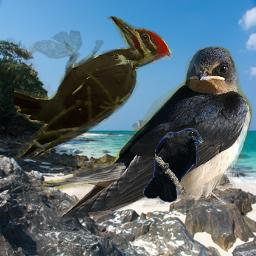Crow: (143, 128, 204, 203)
Swallow: (37, 46, 252, 218)
Woodpecker: (14, 16, 172, 162)
